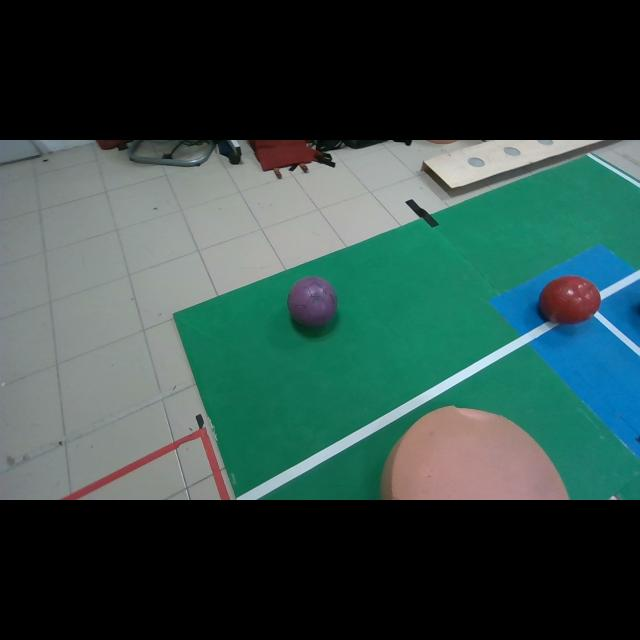P: (288, 276, 338, 328)
R: (539, 275, 601, 323)
